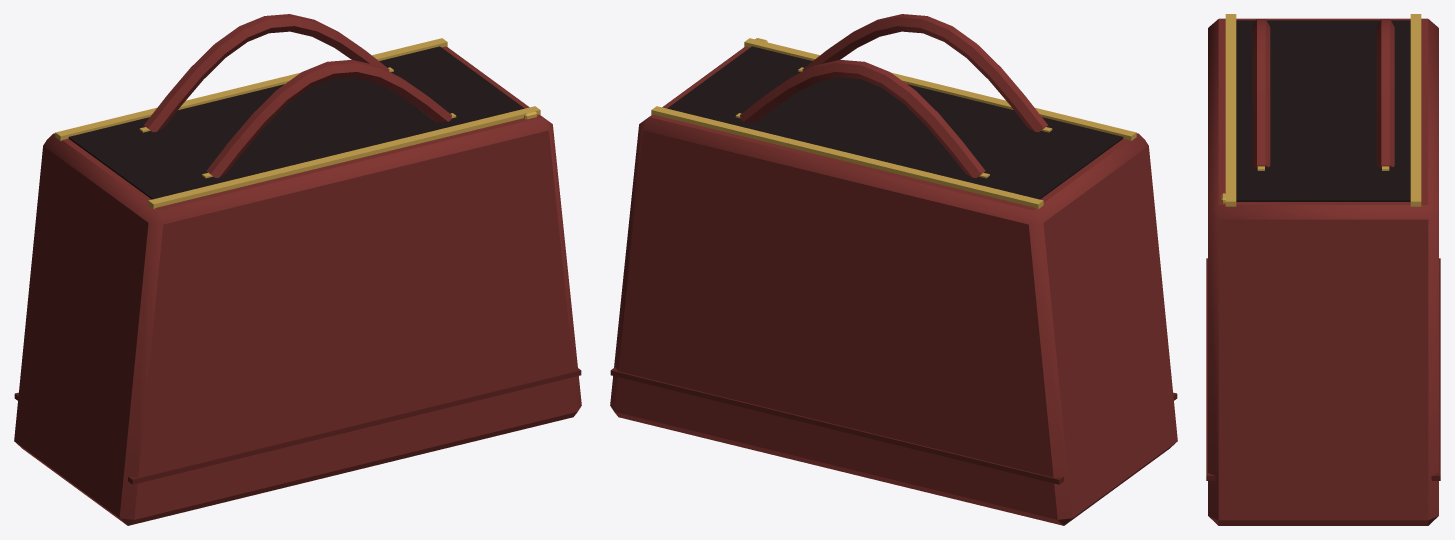
File: handbag.glb
The picture shows the model from 3 angles, left to right: view 1: azimuth 30°, elevation 25°; view 2: azimuth 150°, elevation 25°; view 3: azimuth 270°, elevation 25°; orthographic projection.
Visible parts, largest first — view 1: handbag; view 2: handbag; view 3: handbag.
Boxes of the visible parts, <box> form: handbag: <box>14,14,581,525</box>; handbag: <box>610,14,1177,525</box>; handbag: <box>1206,14,1440,525</box>.
Size of the model in its own units: 0.2959 by 0.24 by 0.1307.
